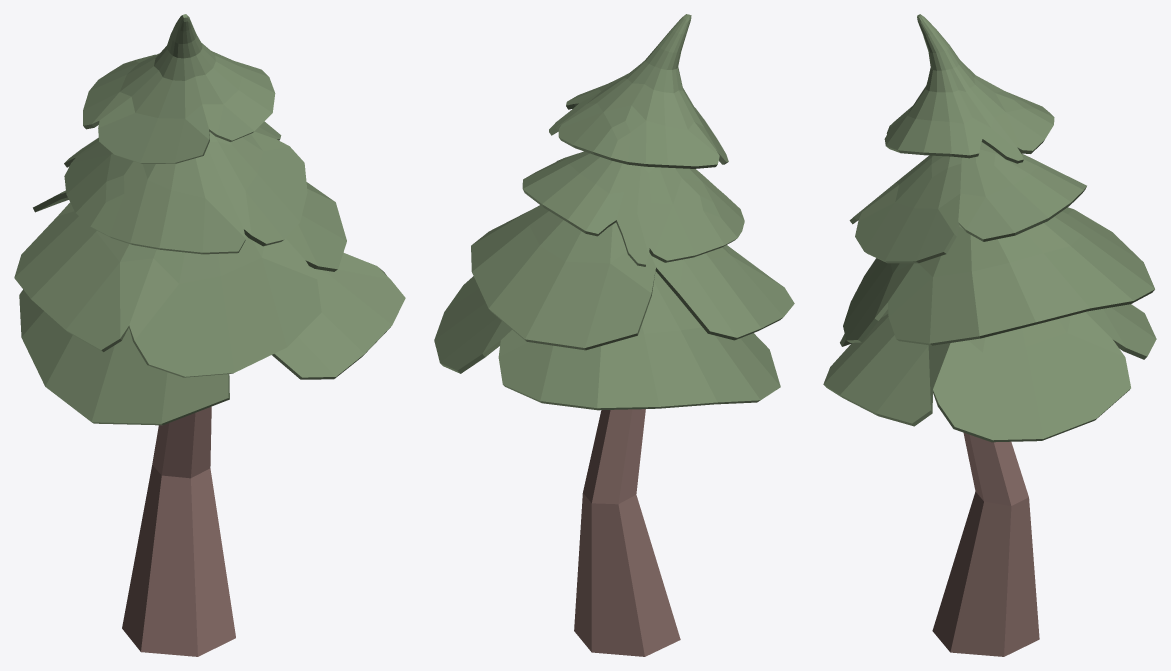
3 views of the same model, side by side, from view 1: azimuth 30°, elevation 25°; view 2: azimuth 150°, elevation 25°; view 3: azimuth 270°, elevation 25° (orthographic). The views are drawn at different scales.
Parts seen in each view (by area): view 1: Visual; view 2: Visual; view 3: Visual.
Boxes of the visible parts, box(x1,y1,x2,y2) form: Visual: box(14, 14, 405, 656); Visual: box(434, 14, 794, 656); Visual: box(823, 14, 1156, 656).
Size of the model in its own units: 13.12 by 24 by 11.95.
